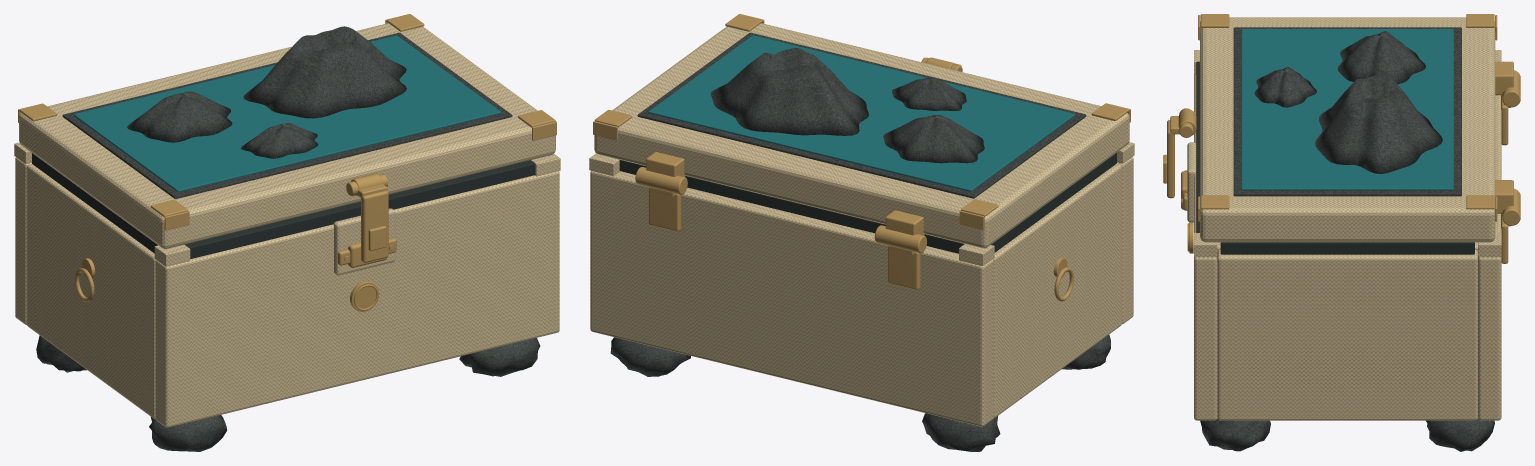
File: ecuador.glb
3 views of the same model, side by side, from view 1: azimuth 30°, elevation 25°; view 2: azimuth 150°, elevation 25°; view 3: azimuth 270°, elevation 25° (orthographic).
Parts seen in each view (by area): view 1: Toquilla / front, Lid / polished slab, Toquilla / side, Pacific / teal water, Islet / caldera, Mineral seam / long, Pacific / graphite inset, Islet / western, Basalt foot, Basalt foot.002, Toquilla / rear, Islet / southern (+6 smaller); view 2: Toquilla / rear, Lid / polished slab, Toquilla / side, Pacific / teal water, Islet / caldera, Pacific / graphite inset, Islet / western, Mineral seam / long.001, Basalt foot.001, Toquilla / front, Basalt foot.003, Islet / southern (+10 smaller); view 3: Toquilla / side.001, Lid / polished slab, Pacific / teal water, Islet / caldera, Pacific / graphite inset, Toquilla / rear, Toquilla / front, Mineral seam / side.001, Islet / western, Basalt foot.002, Basalt foot.003, Islet / southern (+13 smaller).
Boxes of the visible parts, bbox=[...] form: Toquilla / front: bbox=[155, 171, 559, 427]; Lid / polished slab: bbox=[19, 23, 555, 248]; Toquilla / side: bbox=[26, 164, 155, 419]; Pacific / teal water: bbox=[73, 35, 501, 192]; Islet / caldera: bbox=[243, 26, 406, 118]; Mineral seam / long: bbox=[184, 160, 535, 258]; Pacific / graphite inset: bbox=[62, 32, 512, 198]; Islet / western: bbox=[127, 91, 232, 142]; Basalt foot: bbox=[149, 415, 226, 451]; Basalt foot.002: bbox=[459, 338, 540, 376]; Toquilla / rear: bbox=[15, 157, 31, 324]; Islet / southern: bbox=[241, 123, 318, 158]; Toquilla / rear: bbox=[590, 170, 993, 426]; Lid / polished slab: bbox=[594, 23, 1129, 248]; Toquilla / side: bbox=[993, 163, 1121, 418]; Pacific / teal water: bbox=[648, 35, 1075, 191]; Islet / caldera: bbox=[710, 48, 868, 135]; Pacific / graphite inset: bbox=[637, 32, 1086, 198]; Islet / western: bbox=[883, 115, 984, 163]; Mineral seam / long.001: bbox=[619, 160, 964, 253]; Basalt foot.001: bbox=[922, 413, 1000, 451]; Toquilla / front: bbox=[1117, 157, 1133, 324]; Basalt foot.003: bbox=[610, 337, 690, 376]; Islet / southern: bbox=[892, 77, 966, 110]; Toquilla / side.001: bbox=[1217, 249, 1477, 420]; Lid / polished slab: bbox=[1200, 17, 1495, 242]; Pacific / teal water: bbox=[1241, 29, 1453, 190]; Islet / caldera: bbox=[1315, 70, 1442, 173]; Pacific / graphite inset: bbox=[1233, 27, 1461, 196]; Toquilla / rear: bbox=[1478, 95, 1501, 420]; Toquilla / front: bbox=[1194, 74, 1217, 420]; Mineral seam / side.001: bbox=[1220, 242, 1474, 254]; Islet / western: bbox=[1337, 31, 1425, 84]; Basalt foot.002: bbox=[1200, 418, 1270, 451]; Basalt foot.003: bbox=[1426, 419, 1494, 451]; Islet / southern: bbox=[1254, 67, 1316, 107].
Bounding box in the file's own units: 3.79 × 2.8 × 2.88.
5 materials, 2 textured.
